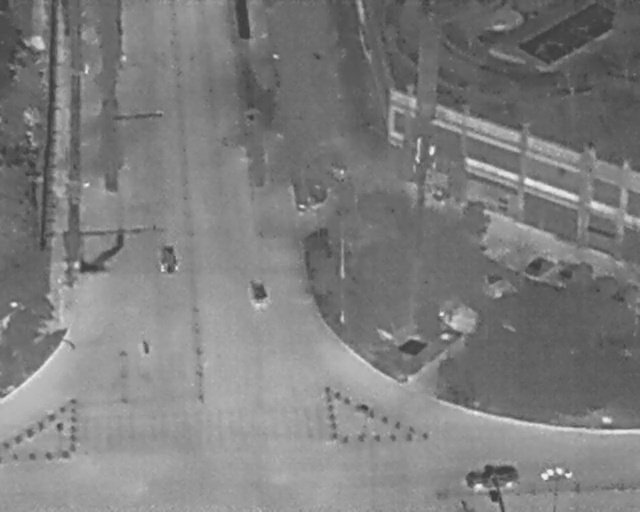Bicycle: (139, 338, 150, 355)
Car: (464, 461, 521, 493), (519, 247, 559, 286), (553, 255, 588, 289), (245, 276, 271, 311), (156, 243, 181, 277)
